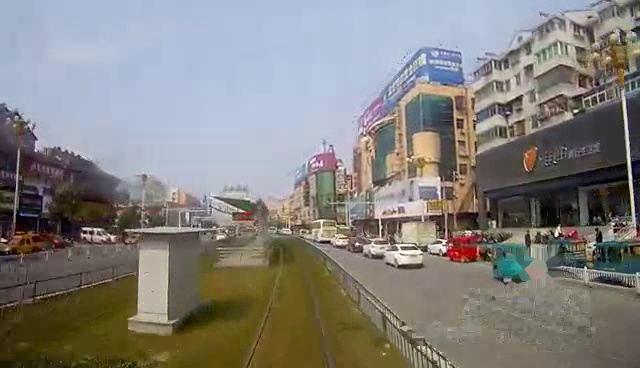car: (387, 243, 429, 269), (368, 242, 392, 258)
